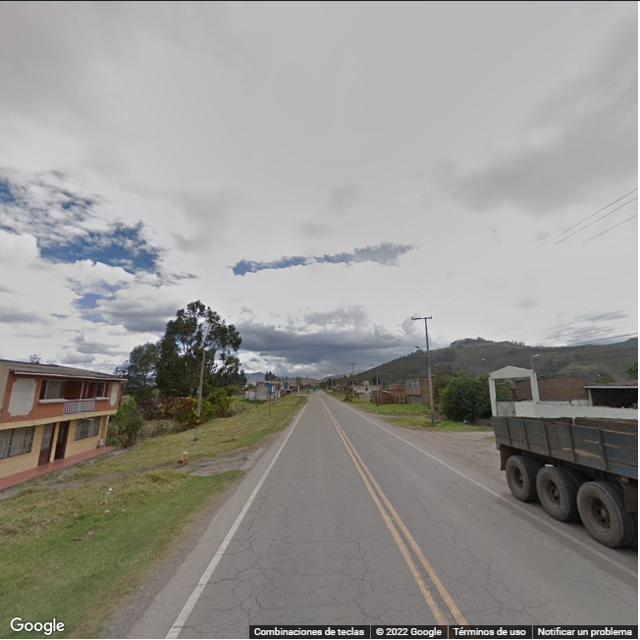D00: (244, 480, 278, 545), (449, 536, 494, 573), (478, 579, 511, 617), (412, 491, 444, 528), (255, 570, 271, 620), (355, 530, 362, 584)
D10: (242, 600, 357, 612), (186, 573, 244, 588)
